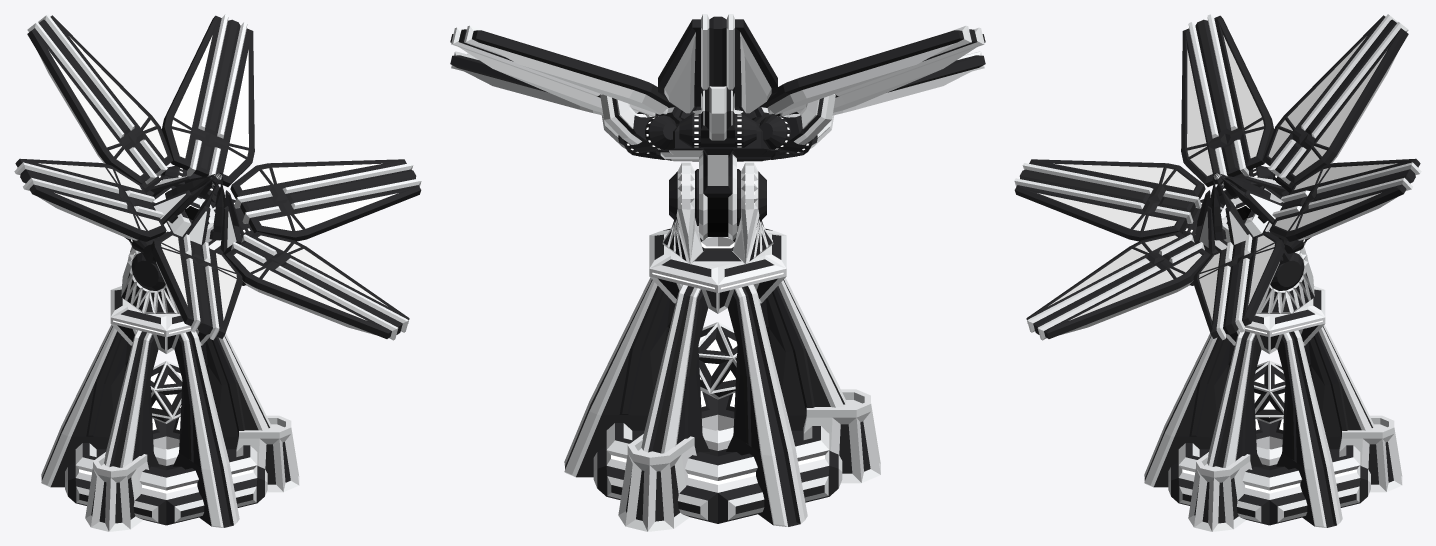
Rendered from satellite_dish.glb.
3 renders of one model, left to right at view 1: azimuth 30°, elevation 25°; view 2: azimuth 150°, elevation 25°; view 3: azimuth 270°, elevation 25°, orthographic. The views are drawn at different scales.
Visible parts, largest first — view 1: SatelliteDish_Pillars, SatelliteDish_Foundation, SatelliteDish_DishPart_3, SatelliteDish_DishPart_2, SatelliteDish_DishPart_4, SatelliteDish_DishPart_1, SatelliteDish_DishPart_5, SatelliteDish_DishPart_6, SatelliteDish_Head, SatelliteDish_NeckFoundation, SatelliteDish_LowerNeck, MediumPowerNode_Isosphere.001; view 2: SatelliteDish_Pillars, SatelliteDish_Foundation, SatelliteDish_DishPart_4, SatelliteDish_DishPart_3, SatelliteDish_DishPart_5, SatelliteDish_LowerNeck, SatelliteDish_NeckFoundation, SatelliteDish_Head, SatelliteDish_UpperNeck, MediumPowerNode_Isosphere.001, SatelliteDish_DishPart_2, SatelliteDish_DishPart_6; view 3: SatelliteDish_Pillars, SatelliteDish_Foundation, SatelliteDish_DishPart_5, SatelliteDish_DishPart_6, SatelliteDish_DishPart_4, SatelliteDish_DishPart_1, SatelliteDish_DishPart_3, SatelliteDish_DishPart_2, SatelliteDish_Head, SatelliteDish_NeckFoundation, SatelliteDish_LowerNeck, MediumPowerNode_Isosphere.001.
Part boxes in pixels (x1=…): SatelliteDish_Pillars: x1=41, y1=325, x2=271, y2=527; SatelliteDish_Foundation: x1=65, y1=415, x2=299, y2=531; SatelliteDish_DishPart_3: x1=161, y1=14, x2=254, y2=186; SatelliteDish_DishPart_2: x1=230, y1=159, x2=421, y2=241; SatelliteDish_DishPart_4: x1=27, y1=14, x2=172, y2=192; SatelliteDish_DishPart_1: x1=225, y1=231, x2=409, y2=340; SatelliteDish_DishPart_5: x1=14, y1=158, x2=166, y2=241; SatelliteDish_DishPart_6: x1=151, y1=231, x2=242, y2=340; SatelliteDish_Head: x1=129, y1=165, x2=254, y2=270; SatelliteDish_NeckFoundation: x1=110, y1=286, x2=209, y2=353; SatelliteDish_LowerNeck: x1=121, y1=249, x2=179, y2=313; MediumPowerNode_Isosphere.001: x1=150, y1=361, x2=182, y2=423; SatelliteDish_Pillars: x1=564, y1=278, x2=846, y2=526; SatelliteDish_Foundation: x1=593, y1=389, x2=880, y2=531; SatelliteDish_DishPart_4: x1=658, y1=14, x2=777, y2=147; SatelliteDish_DishPart_3: x1=450, y1=25, x2=676, y2=152; SatelliteDish_DishPart_5: x1=759, y1=25, x2=985, y2=152; SatelliteDish_LowerNeck: x1=662, y1=162, x2=773, y2=264; SatelliteDish_NeckFoundation: x1=649, y1=228, x2=786, y2=313; SatelliteDish_Head: x1=623, y1=106, x2=812, y2=161; SatelliteDish_UpperNeck: x1=699, y1=148, x2=736, y2=240; MediumPowerNode_Isosphere.001: x1=698, y1=322, x2=737, y2=399; SatelliteDish_DishPart_2: x1=450, y1=51, x2=662, y2=159; SatelliteDish_DishPart_6: x1=773, y1=51, x2=985, y2=159; SatelliteDish_Pillars: x1=1144, y1=325, x2=1374, y2=527; SatelliteDish_Foundation: x1=1168, y1=415, x2=1402, y2=531; SatelliteDish_DishPart_5: x1=1181, y1=14, x2=1274, y2=186; SatelliteDish_DishPart_6: x1=1014, y1=159, x2=1205, y2=241; SatelliteDish_DishPart_4: x1=1263, y1=14, x2=1408, y2=192; SatelliteDish_DishPart_1: x1=1026, y1=231, x2=1210, y2=340; SatelliteDish_DishPart_3: x1=1269, y1=158, x2=1421, y2=241; SatelliteDish_DishPart_2: x1=1193, y1=231, x2=1284, y2=340; SatelliteDish_Head: x1=1181, y1=165, x2=1306, y2=270; SatelliteDish_NeckFoundation: x1=1226, y1=286, x2=1325, y2=353; SatelliteDish_LowerNeck: x1=1256, y1=249, x2=1314, y2=313; MediumPowerNode_Isosphere.001: x1=1253, y1=360, x2=1285, y2=423.
Bounding box in the file's own units: 6770 × 6819 × 5824.
Materials: 1 (1 with a texture image).
